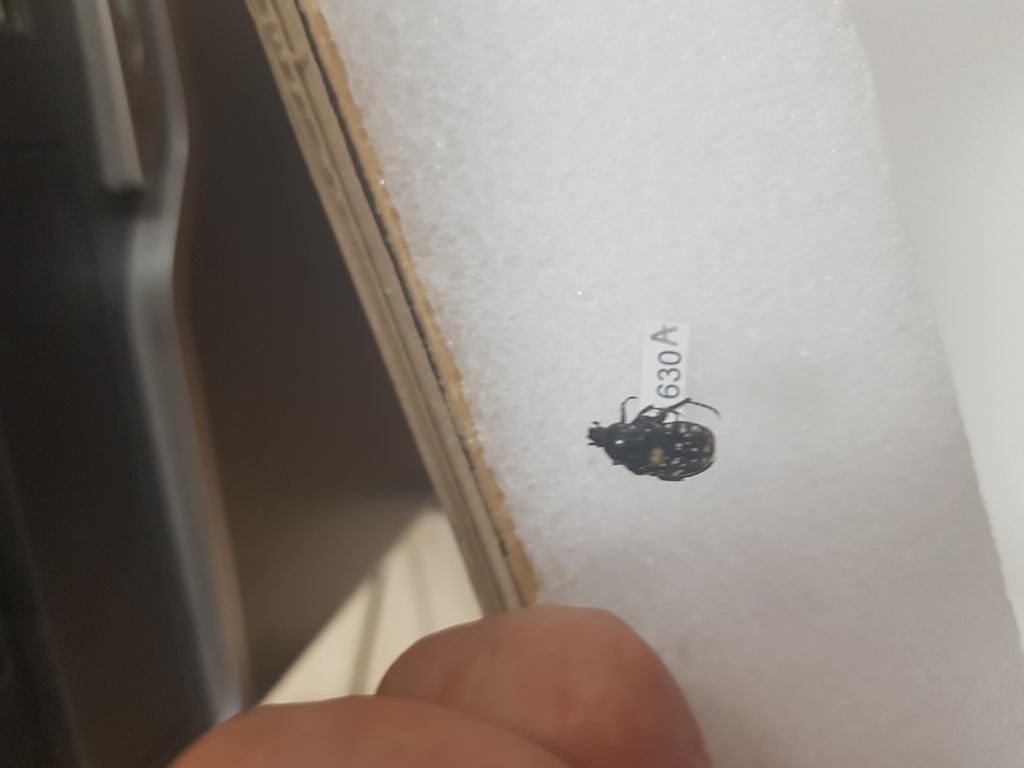Oxythyrea_albopicta: (585, 385, 722, 481)
